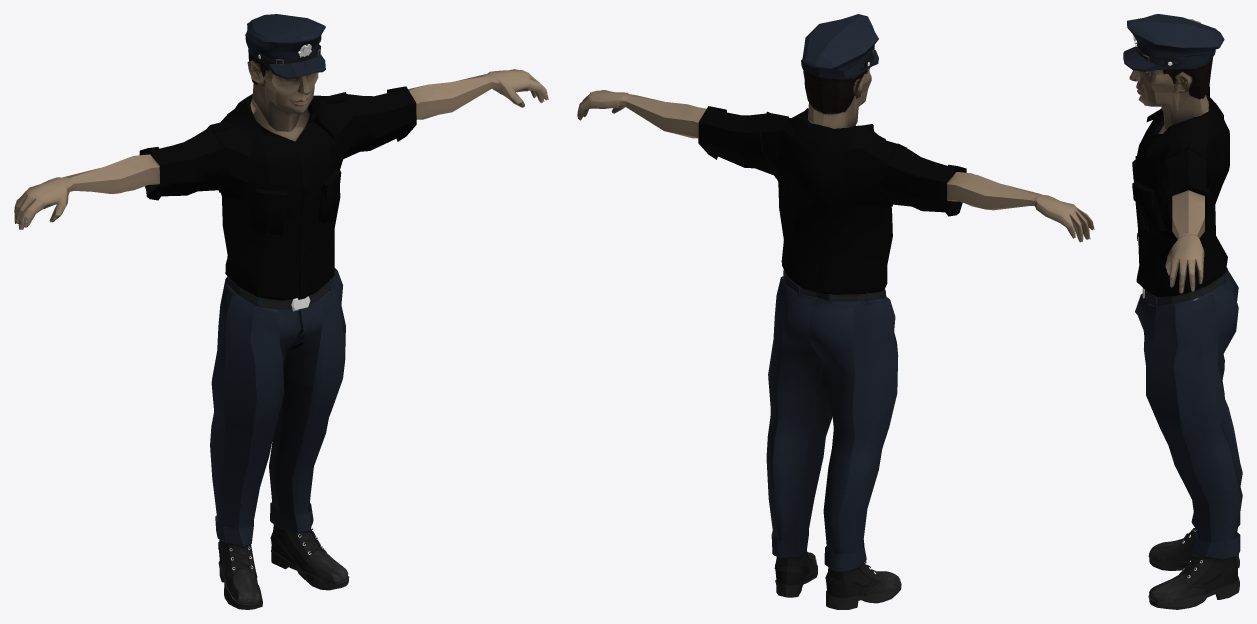
3 renders of one model, left to right at view 1: azimuth 30°, elevation 25°; view 2: azimuth 150°, elevation 25°; view 3: azimuth 270°, elevation 25°, orthographic. The views are drawn at different scales.
Visible parts, largest first — view 1: Policeman_Uniform, Policeman_Pants, Policeman_Arms, Policeman_Boots, Policeman_Hat, Policeman_Head, Policeman_Belt; view 2: Policeman_Pants, Policeman_Uniform, Policeman_Arms, Policeman_Boots, Policeman_Hat, Policeman_Head, Policeman_Belt; view 3: Policeman_Pants, Policeman_Uniform, Policeman_Boots, Policeman_Hat, Policeman_Head, Policeman_Arms, Policeman_Belt.
Part boxes in pixels (bbox=[...]): Policeman_Uniform: bbox=[139, 86, 416, 300]; Policeman_Pants: bbox=[210, 268, 345, 547]; Policeman_Arms: bbox=[14, 69, 548, 229]; Policeman_Boots: bbox=[218, 524, 349, 609]; Policeman_Hat: bbox=[245, 14, 325, 79]; Policeman_Head: bbox=[247, 49, 318, 141]; Policeman_Belt: bbox=[227, 276, 332, 311]; Policeman_Pants: bbox=[766, 276, 898, 572]; Policeman_Uniform: bbox=[698, 106, 966, 294]; Policeman_Arms: bbox=[577, 90, 1094, 242]; Policeman_Boots: bbox=[774, 539, 901, 609]; Policeman_Hat: bbox=[801, 14, 878, 79]; Policeman_Head: bbox=[803, 68, 871, 128]; Policeman_Belt: bbox=[783, 269, 886, 301]; Policeman_Pants: bbox=[1135, 270, 1242, 559]; Policeman_Uniform: bbox=[1132, 85, 1229, 297]; Policeman_Boots: bbox=[1148, 528, 1239, 609]; Policeman_Hat: bbox=[1123, 14, 1224, 71]; Policeman_Head: bbox=[1129, 57, 1212, 133]; Policeman_Arms: bbox=[1165, 19, 1204, 293]; Policeman_Belt: bbox=[1142, 274, 1225, 306].
Size of the model in its own units: 20.64 by 21.53 by 4.15.
3 materials, 2 textured.
